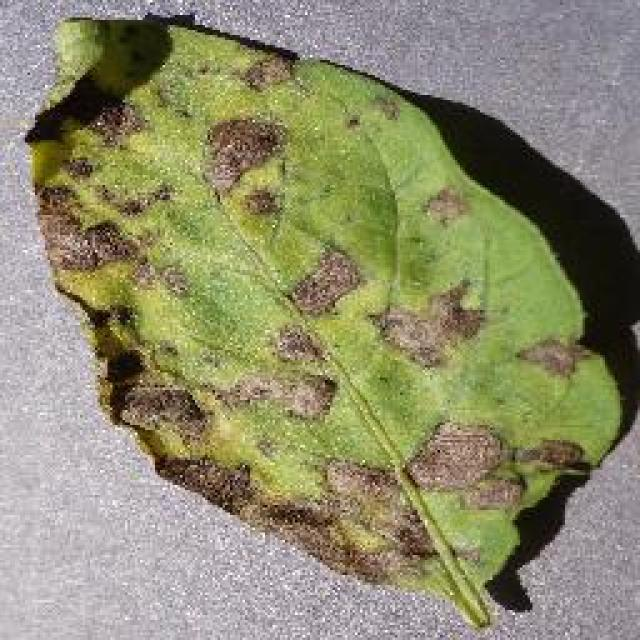Potato: (23, 12, 635, 630)
